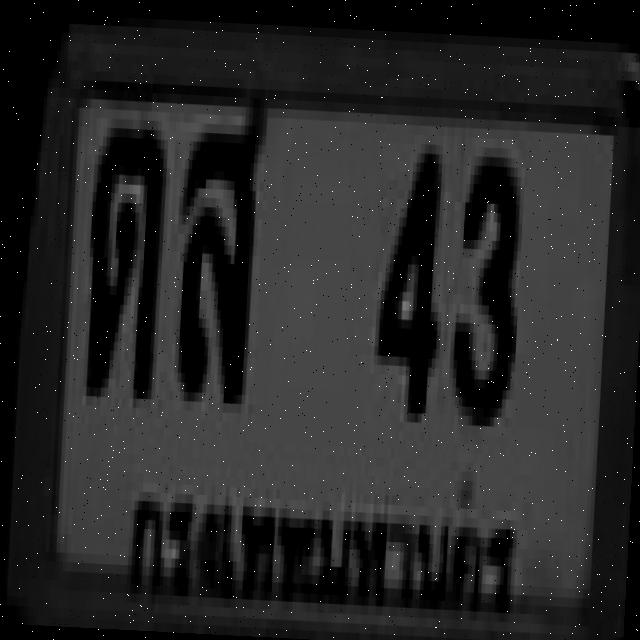3: (447, 146, 522, 418)
30TorTao: (80, 118, 166, 390)
4: (372, 133, 444, 414)
49SorSuea: (170, 94, 265, 396)
Bangkok: (113, 466, 534, 632)
